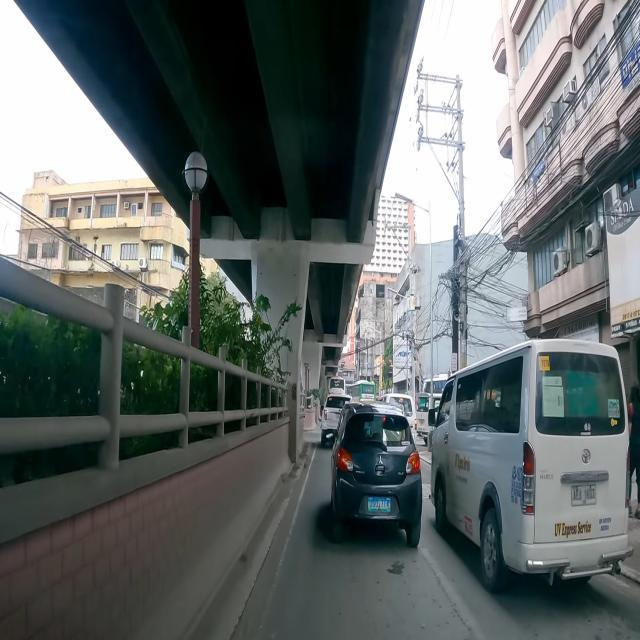bus: (346, 379, 376, 402), (329, 376, 346, 394)
car: (427, 339, 631, 593), (324, 402, 422, 548), (321, 392, 354, 448)
